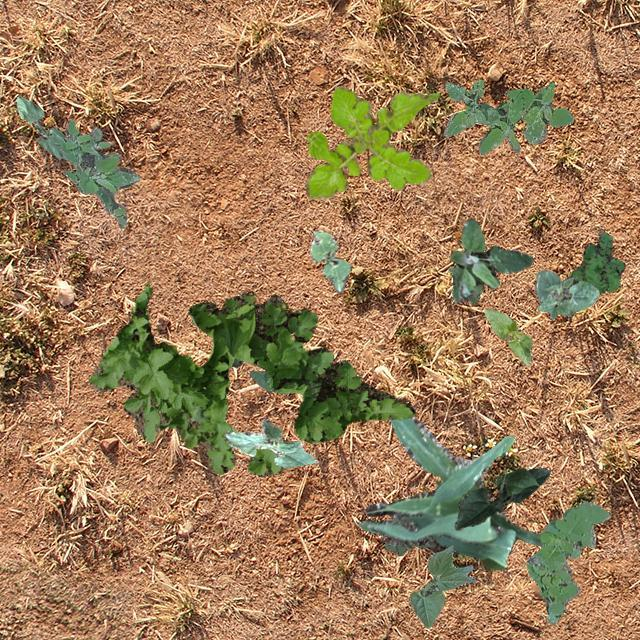crop: (358, 416, 540, 568), (454, 466, 548, 530), (408, 544, 474, 626), (224, 418, 318, 468), (534, 270, 598, 318), (16, 94, 64, 158), (482, 308, 530, 364), (308, 230, 351, 292), (230, 356, 272, 389)
weed: (88, 286, 414, 476), (304, 84, 438, 198), (526, 501, 608, 624), (48, 118, 140, 226), (442, 78, 572, 154), (448, 218, 532, 302), (568, 230, 624, 292), (384, 540, 434, 554)
